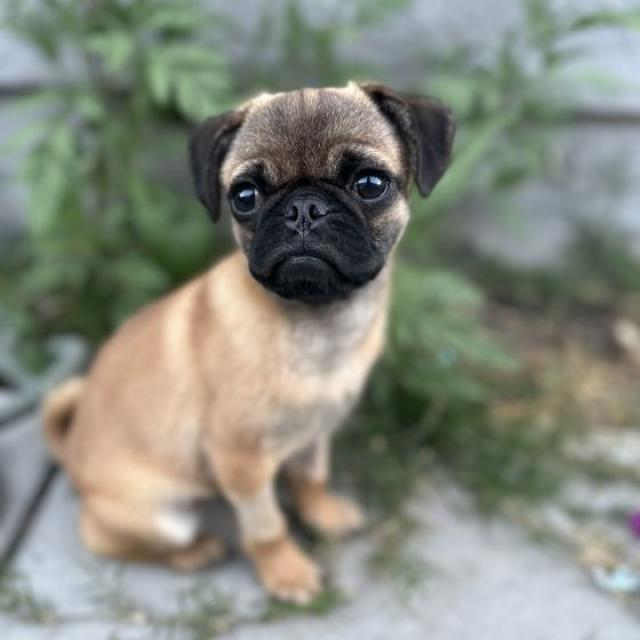pug_dog: (160, 60, 467, 337)
